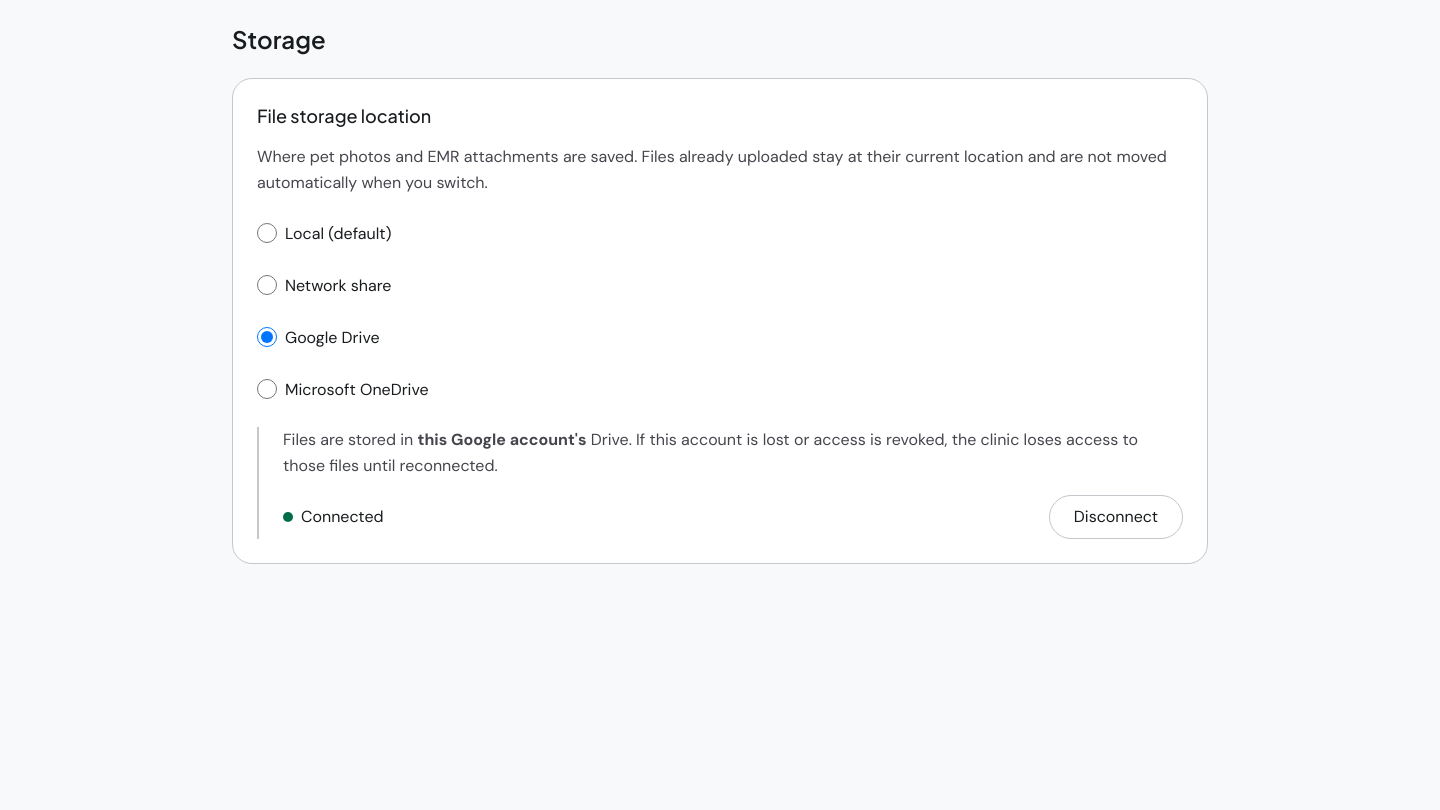
Scenario: StoragePage › the confirmation dialog exposes a close (X) control that cancels without switching
The width and height of the screenshot is (1440, 810).
Click the button "Disconnect" at [1116, 517], box [1049,495,1183,539]
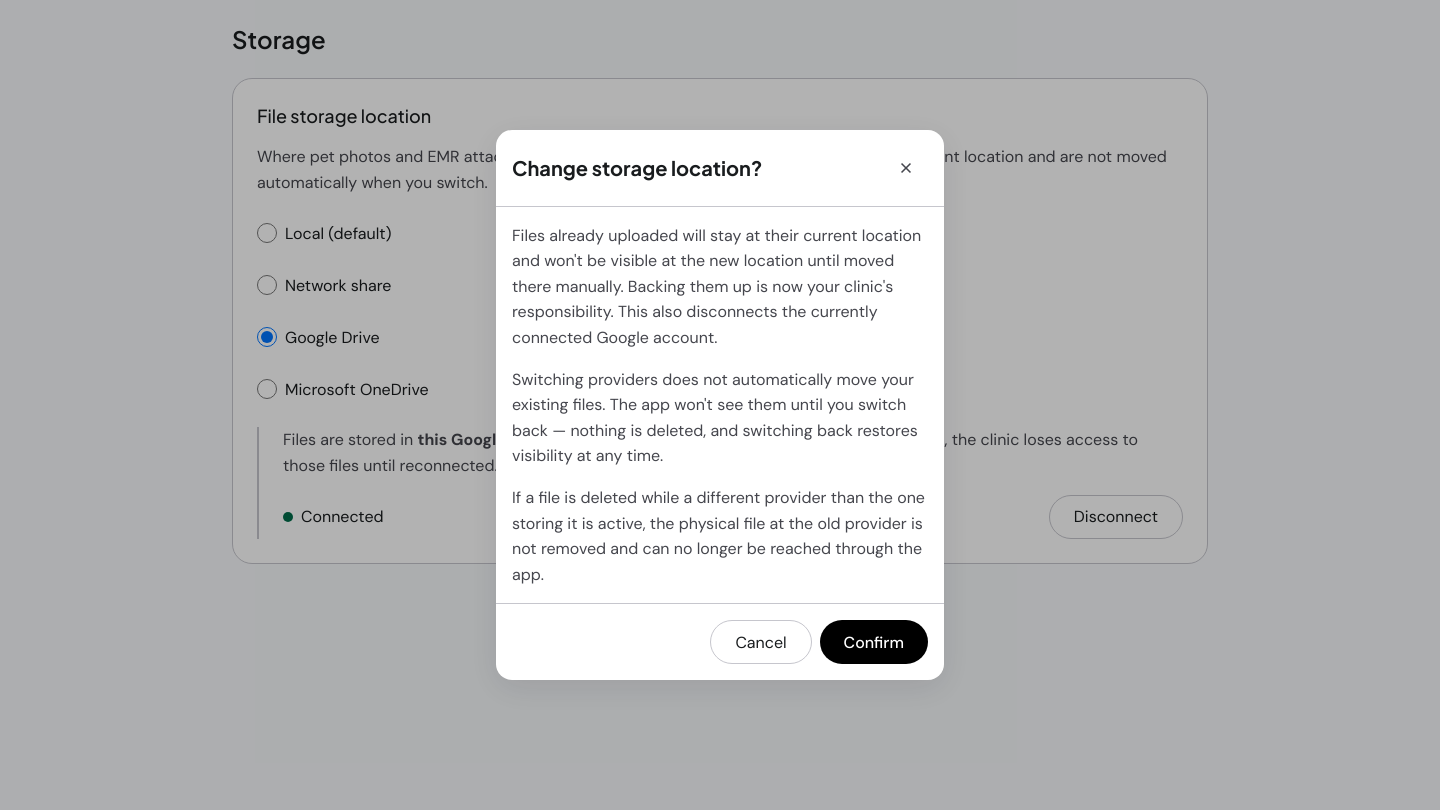
Expected: the heading "Change storage location?" is shown, [512,155,762,181]
Click the button named "Close dialog" at [906, 168], box [884,146,928,190]
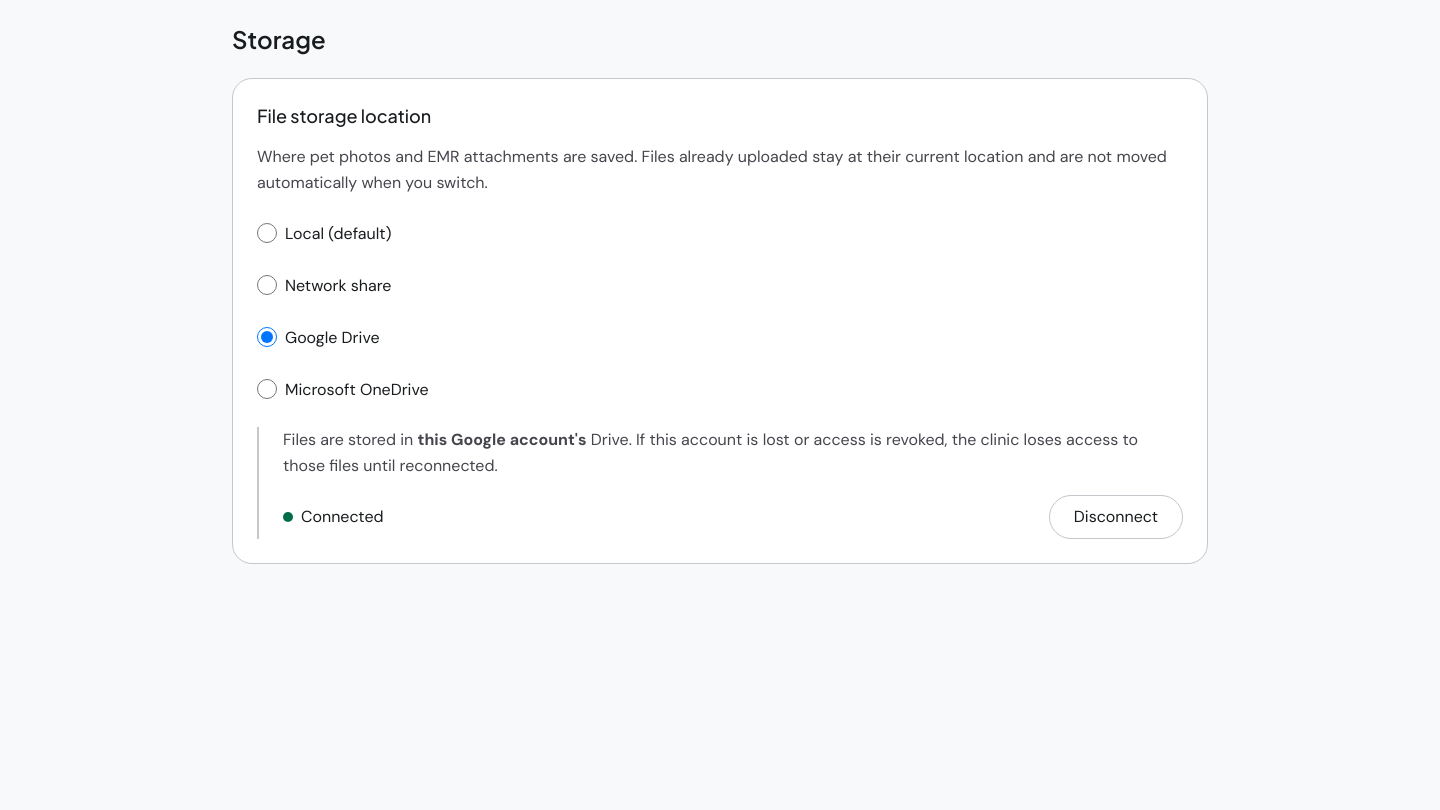
Expected: the heading "Change storage location?" is gone
